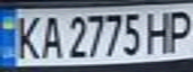2: (63, 11, 87, 60)
5: (121, 9, 148, 56)
7: (103, 10, 127, 57), (84, 11, 106, 58)
A: (36, 12, 63, 60)
H: (142, 7, 175, 55)
K: (9, 11, 45, 61)
P: (163, 7, 193, 54)
